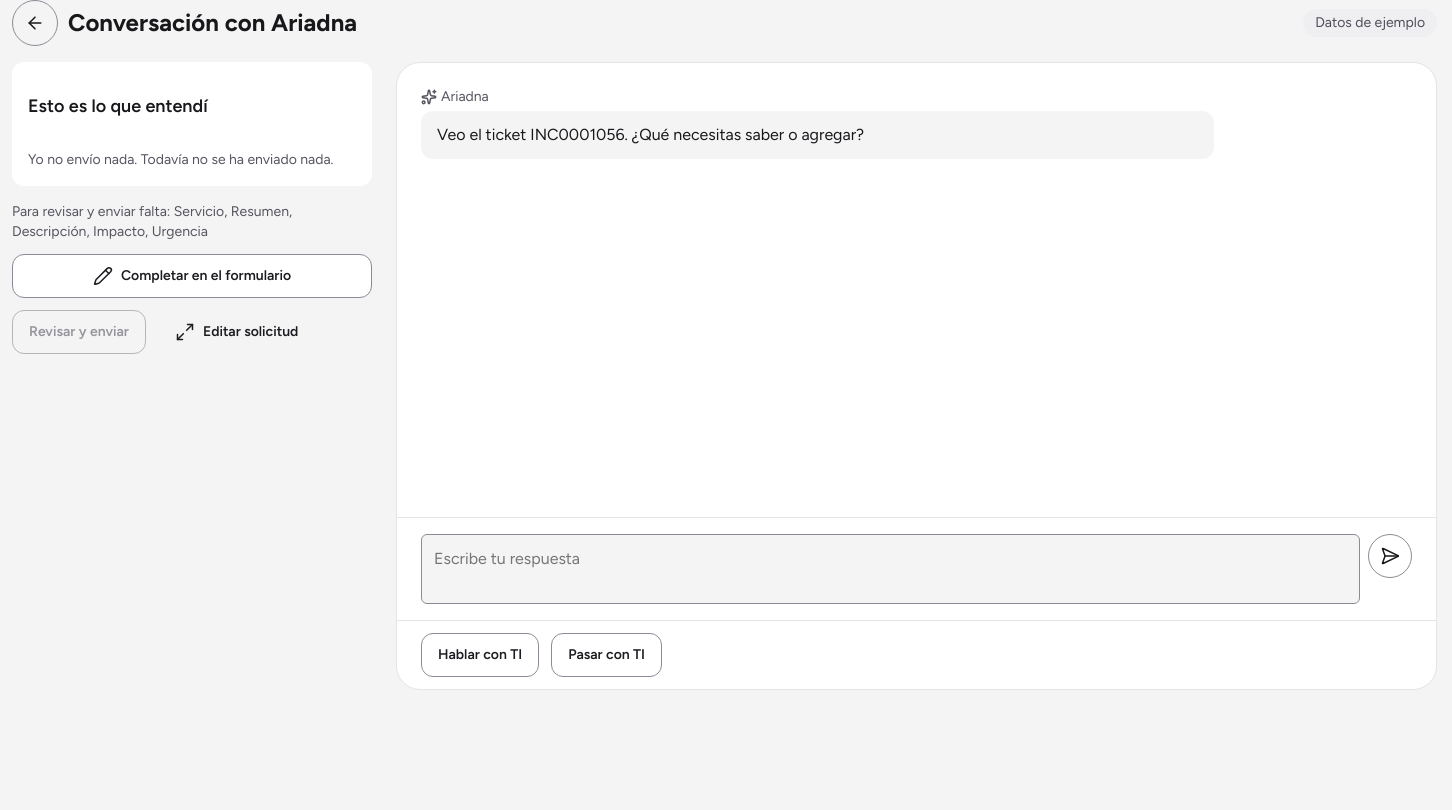
Test: ConversationContainer agent v2 › update_ticket PATCHes only the proposed fields with confirmed: true
In the text box named "Tu respuesta para Ariadna": coordinates (890, 569) [421,534,1360,604], type "cambia el título"
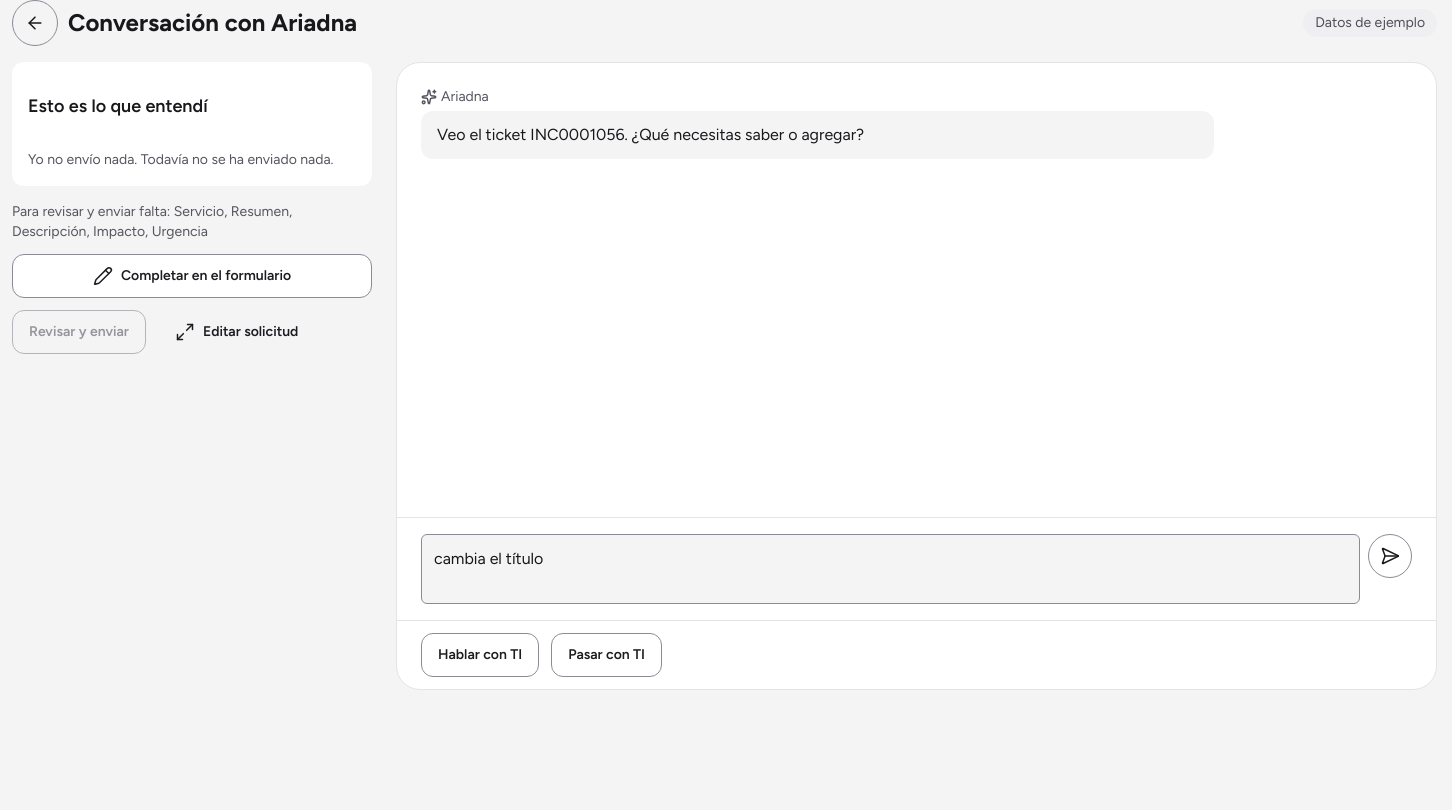
Click the button named "Enviar respuesta a Ariadna": coordinates (1390, 556) [1368,534,1412,578]
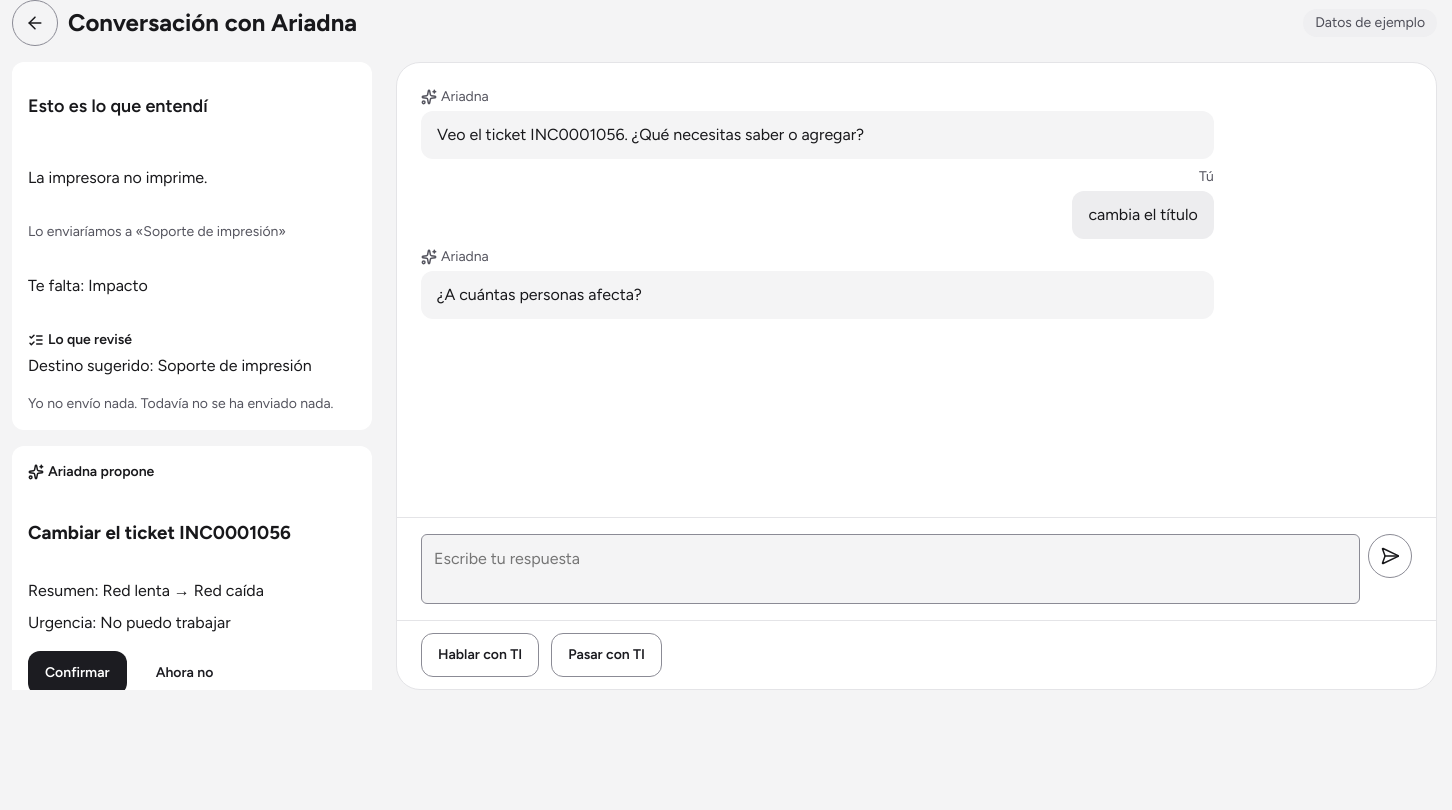
Result: the list named "Cambios propuestos" shows "Red lenta → Red caída" at [28,581,264,600]
Click the button "Confirmar": coordinates (77, 673) [28,651,127,695]
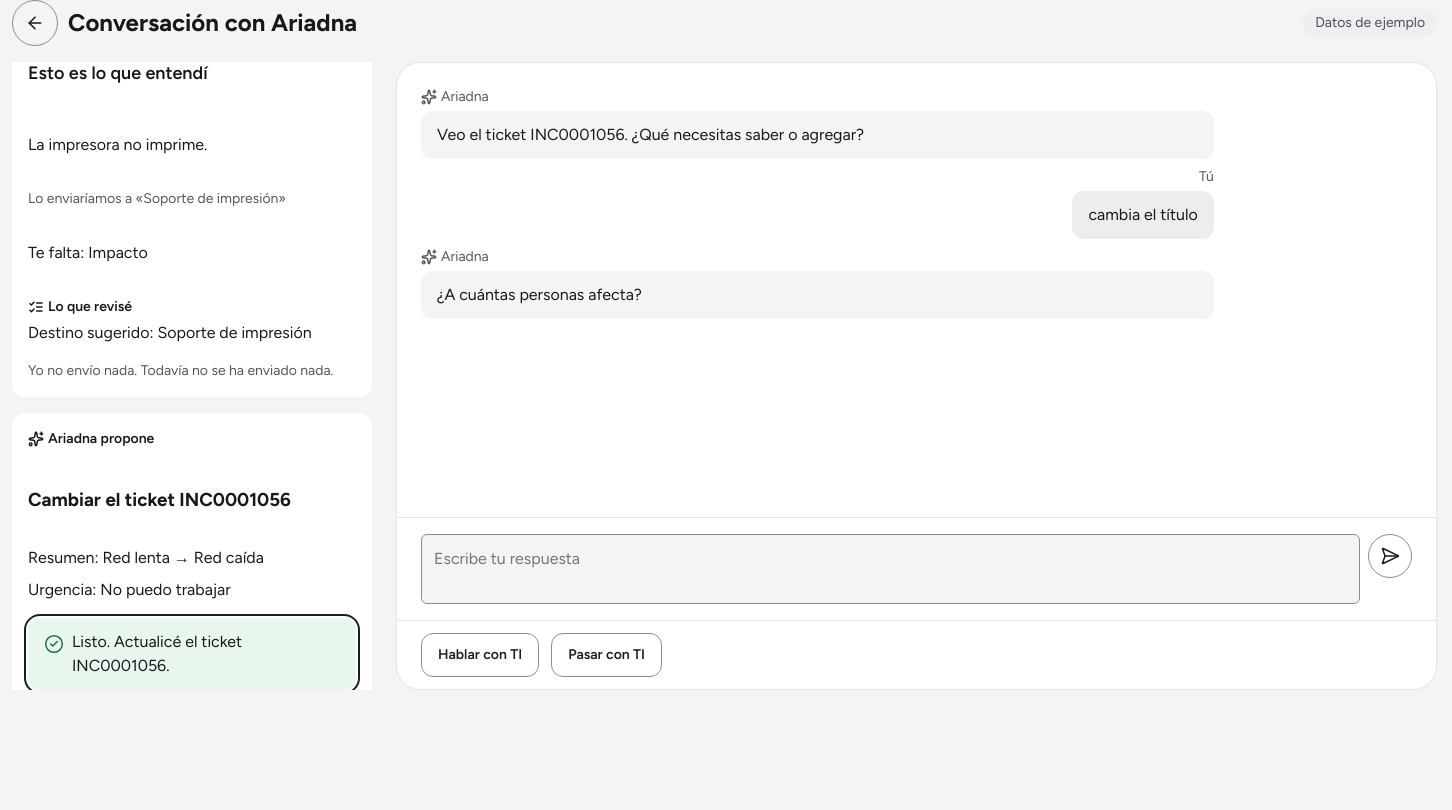
Result: the message shows "INC0001056" at [72,632,242,675]
